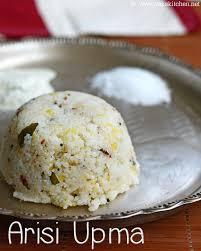upma: (0, 86, 146, 222)
